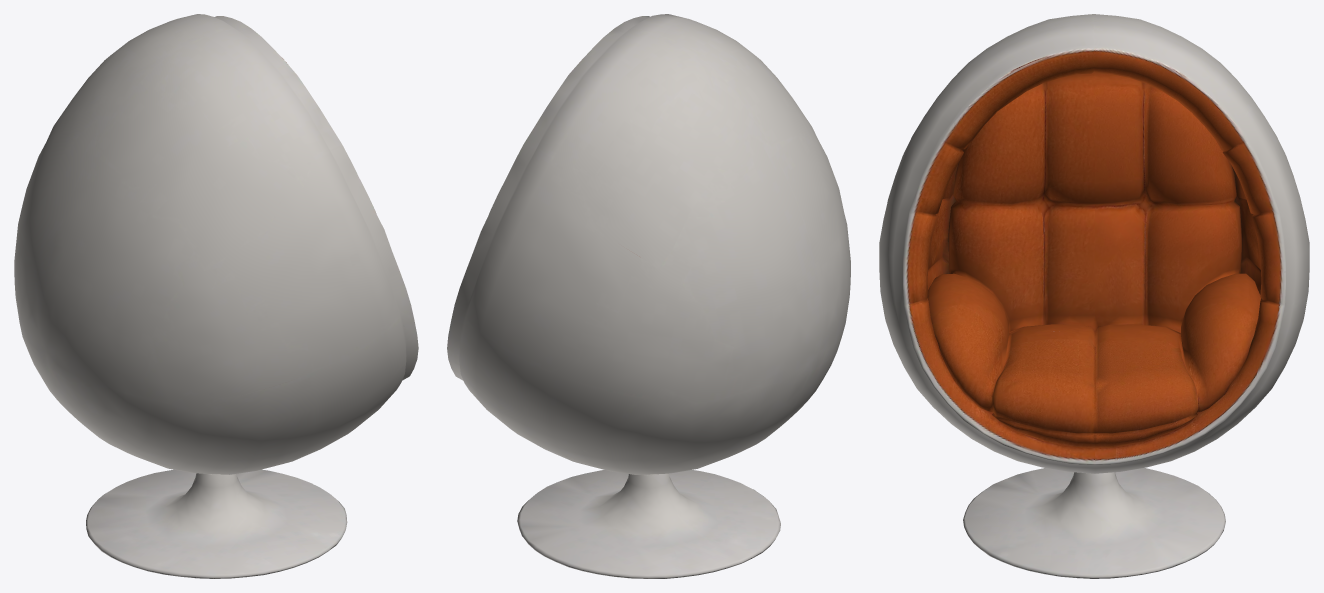
3 views of the same model, side by side, from view 1: azimuth 30°, elevation 25°; view 2: azimuth 150°, elevation 25°; view 3: azimuth 270°, elevation 25° (orthographic).
Visible parts, largest first — view 1: tripo_node_1ff8b6e1-94f0-4f81-829d-fc962884edf4; view 2: tripo_node_1ff8b6e1-94f0-4f81-829d-fc962884edf4; view 3: tripo_node_1ff8b6e1-94f0-4f81-829d-fc962884edf4.
Part boxes in pixels (bbox=[...]): tripo_node_1ff8b6e1-94f0-4f81-829d-fc962884edf4: bbox=[14, 14, 418, 578]; tripo_node_1ff8b6e1-94f0-4f81-829d-fc962884edf4: bbox=[447, 14, 850, 578]; tripo_node_1ff8b6e1-94f0-4f81-829d-fc962884edf4: bbox=[879, 14, 1309, 578].
Size of the model in its own units: 0.6855 by 0.998 by 0.7832.
Materials: 1 (1 with a texture image).
